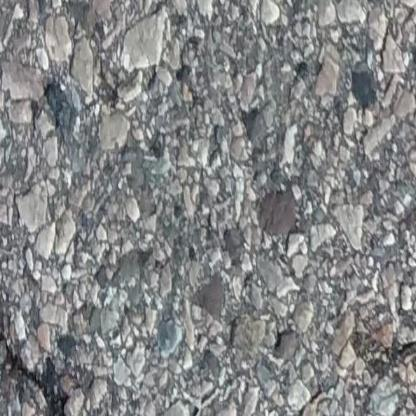Cracks: (0, 302, 73, 416)
